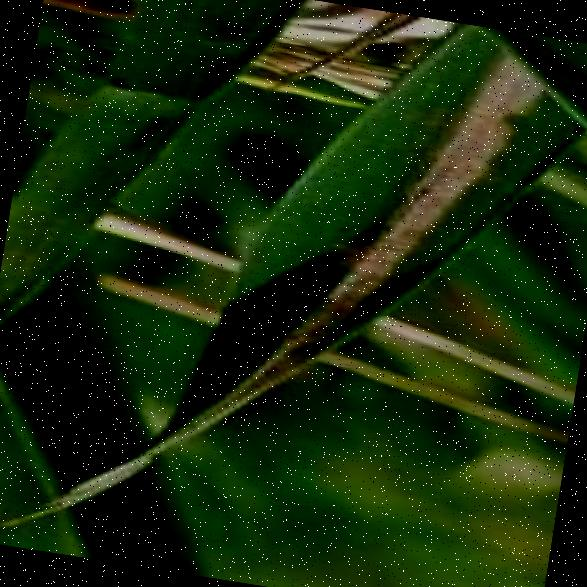Bacteria_Leaf_Blight: (325, 38, 569, 338)
